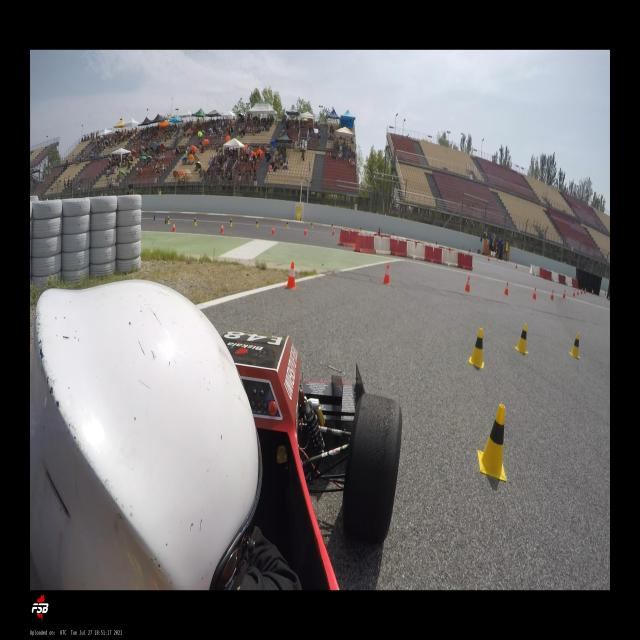orange_cone: (284, 262, 297, 289), (382, 264, 391, 285), (464, 276, 471, 292), (504, 282, 508, 296), (220, 222, 224, 234), (532, 288, 536, 300), (562, 289, 566, 299), (271, 226, 275, 234), (572, 289, 576, 297), (550, 290, 553, 300), (172, 223, 175, 232), (304, 227, 307, 236), (332, 226, 335, 235), (576, 288, 578, 295), (580, 288, 582, 294), (584, 288, 586, 294), (592, 289, 593, 295)
unknown_cone: (165, 216, 167, 224), (153, 214, 155, 220)
yellow_cone: (478, 404, 507, 482), (468, 328, 484, 369), (514, 324, 529, 354), (569, 332, 581, 358), (255, 218, 258, 228), (194, 217, 197, 226), (310, 221, 313, 228), (167, 216, 169, 224), (230, 218, 232, 226), (286, 221, 288, 228), (331, 223, 333, 229)
